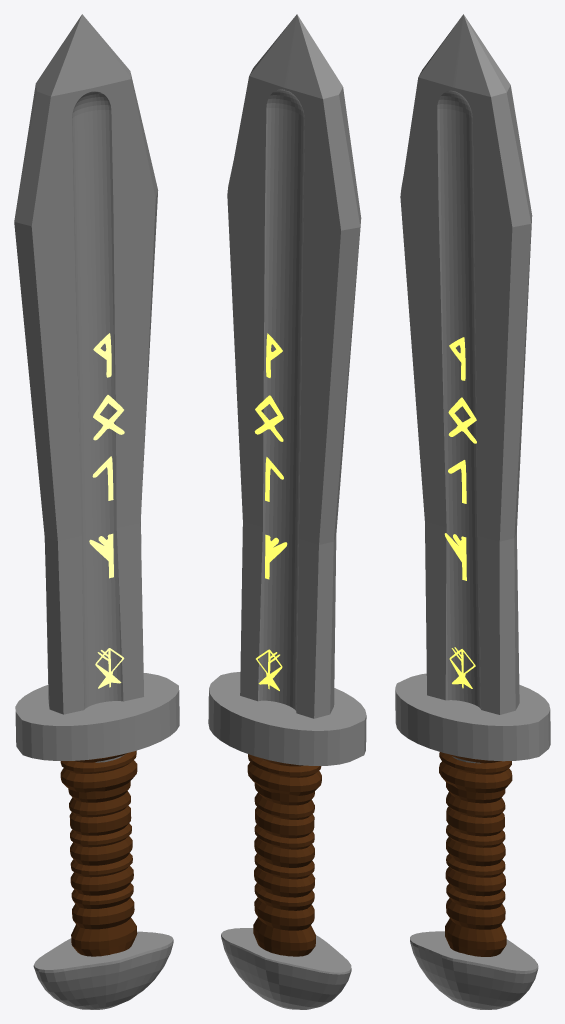
File: sword (1).fbx
The picture shows the model from 3 angles, left to right: view 1: azimuth 30°, elevation 25°; view 2: azimuth 150°, elevation 25°; view 3: azimuth 330°, elevation 25°; orthographic projection.
Parts seen in each view (by area): view 1: sword; view 2: sword; view 3: sword.
Boxes of the visible parts, <box> form: sword: <box>14,14,179,1009</box>; sword: <box>208,14,366,1009</box>; sword: <box>395,14,550,1009</box>.
Size of the model in its own units: 47.35 by 295 by 29.93.
